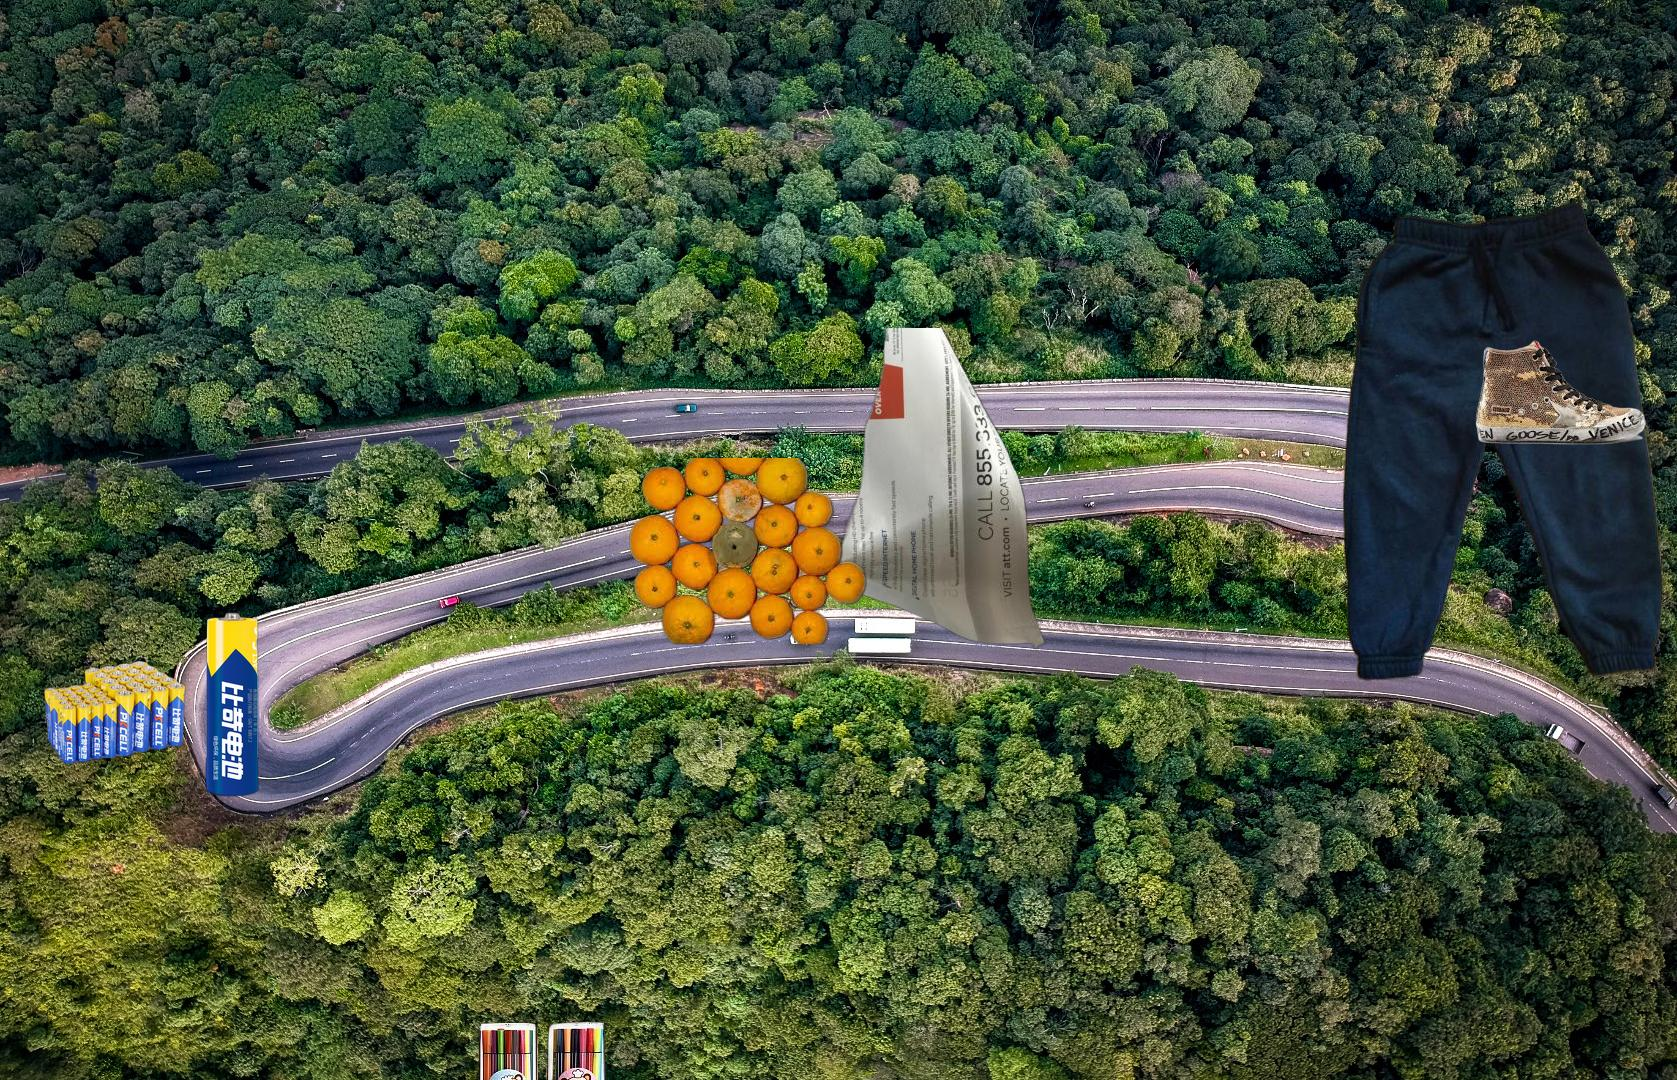battery: (38, 610, 262, 826)
biological: (627, 458, 869, 648)
clothes: (1338, 198, 1666, 685)
paper: (794, 327, 1049, 652)
penholder: (475, 1019, 610, 1080)
shoes: (1473, 337, 1649, 447)
